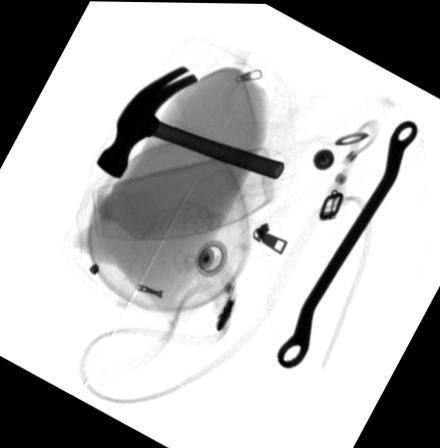Hammer: (97, 64, 285, 178)
Wrench: (277, 119, 419, 368)
